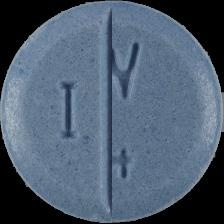57237-123: (0, 0, 224, 224)
